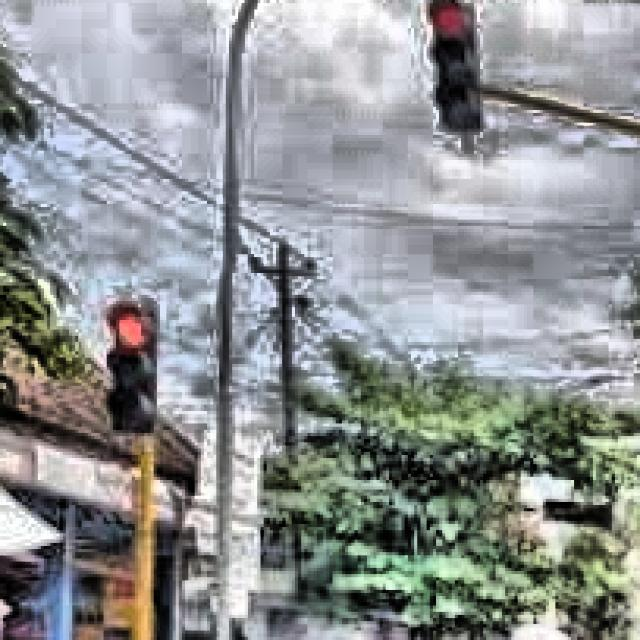red: (84, 292, 154, 430), (420, 0, 483, 125)
